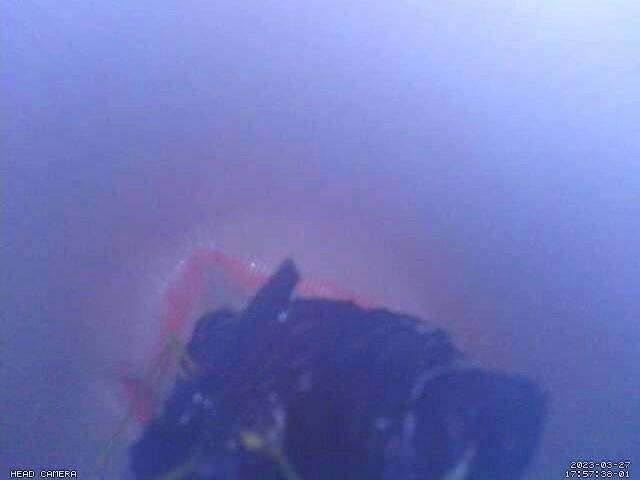head: (111, 247, 376, 424)
